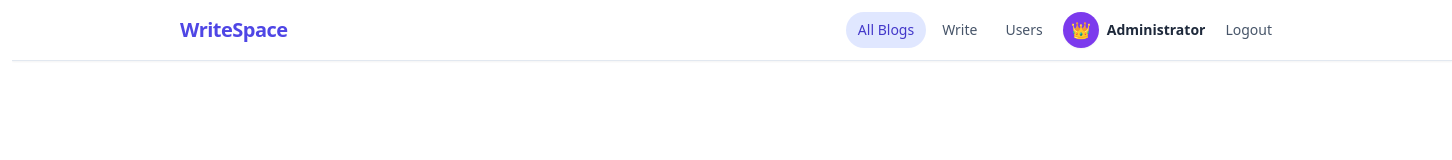
Navbar › clears the session and returns to the landing route on logout
Click the button "Logout": (1249, 30) 1213,12 -> 1284,48
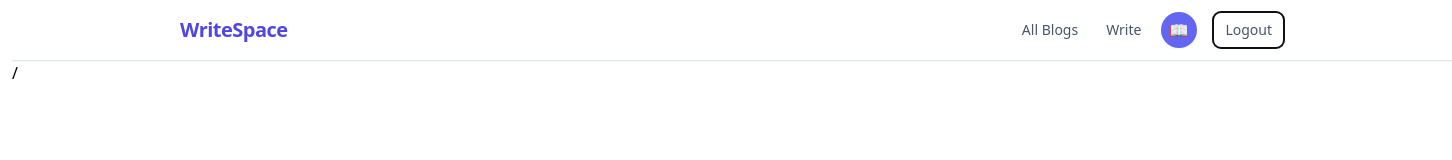
Expected: the text "/" is shown, 12,62 -> 18,84
